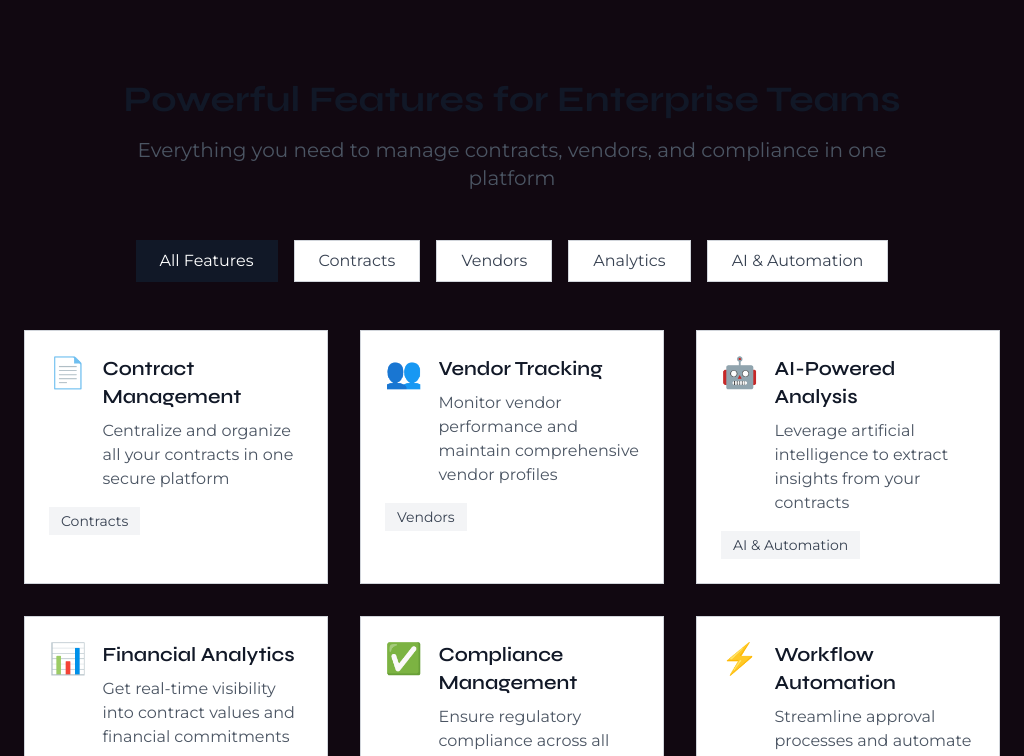
Test: FeatureCards Component › Category Filtering › should filter features by AI category
Click the button with aria-label "Filter by AI & Automation".
click(798, 261)  # box [707,240,888,282]
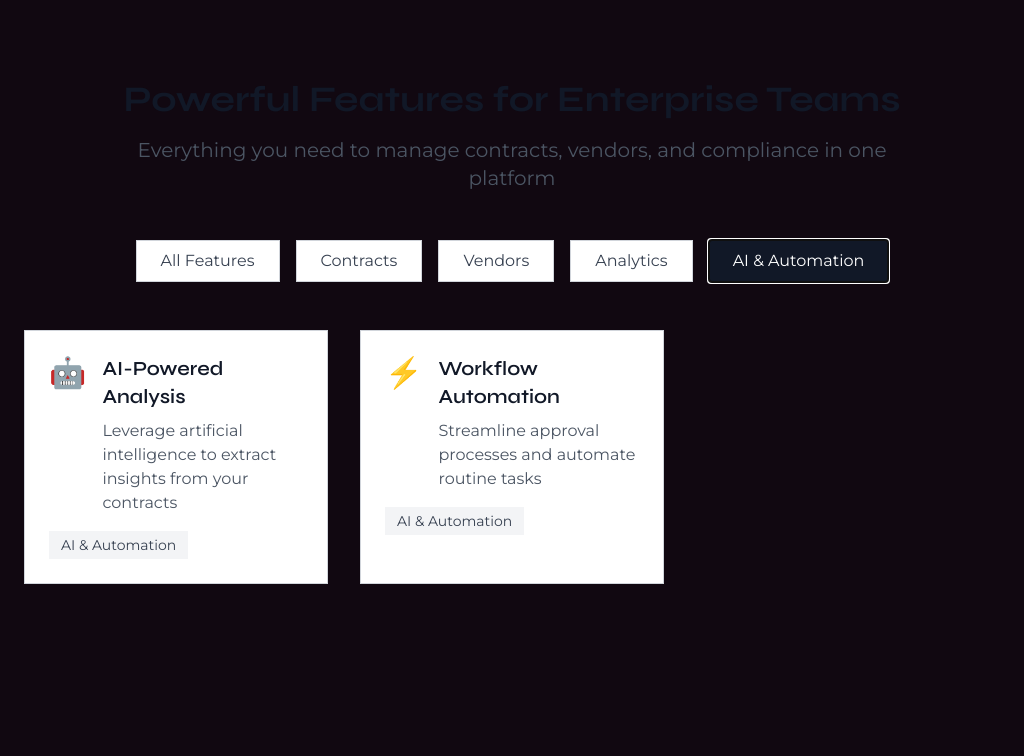
Check: the heading "AI-Powered Analysis" is shown, box [102,356,223,409]
Check: the heading "Contract Management" is gone
